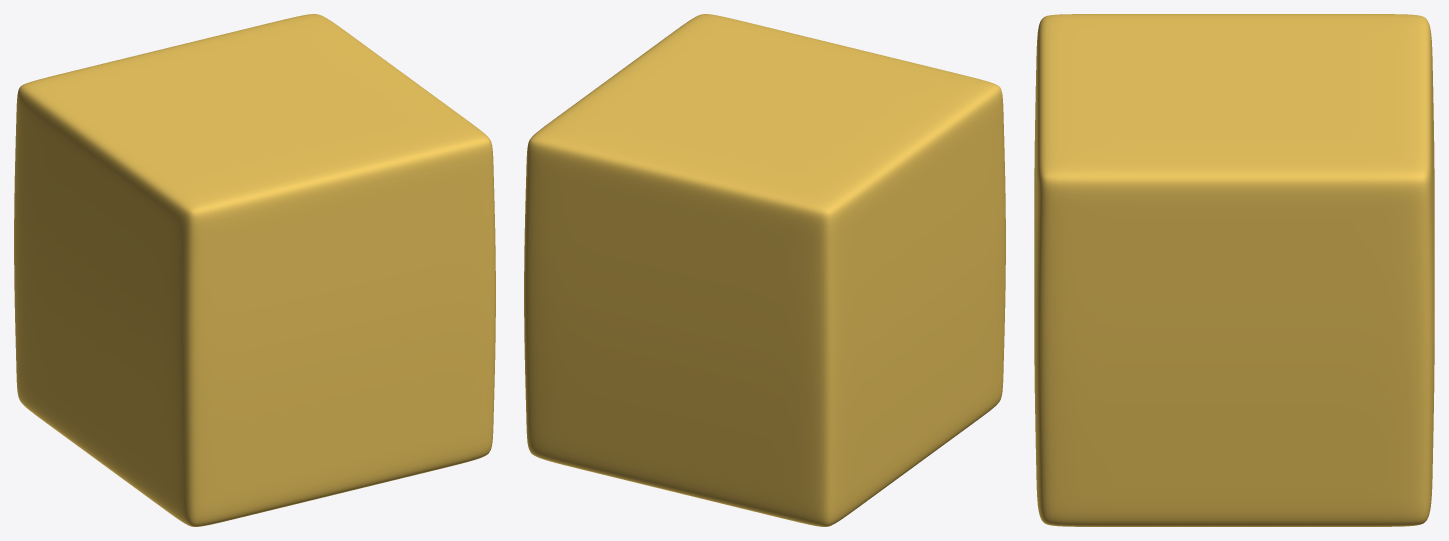
3 renders of one model, left to right at view 1: azimuth 30°, elevation 25°; view 2: azimuth 150°, elevation 25°; view 3: azimuth 270°, elevation 25°, orthographic. The views are drawn at different scales.
Parts seen in each view (by area): view 1: Cube; view 2: Cube; view 3: Cube.
Part boxes in pixels (x1,y1,x2,y2): Cube: [14, 14, 495, 526]; Cube: [524, 14, 1005, 526]; Cube: [1034, 14, 1434, 526].
Size of the model in its own units: 0.2373 by 0.2344 by 0.2373.
